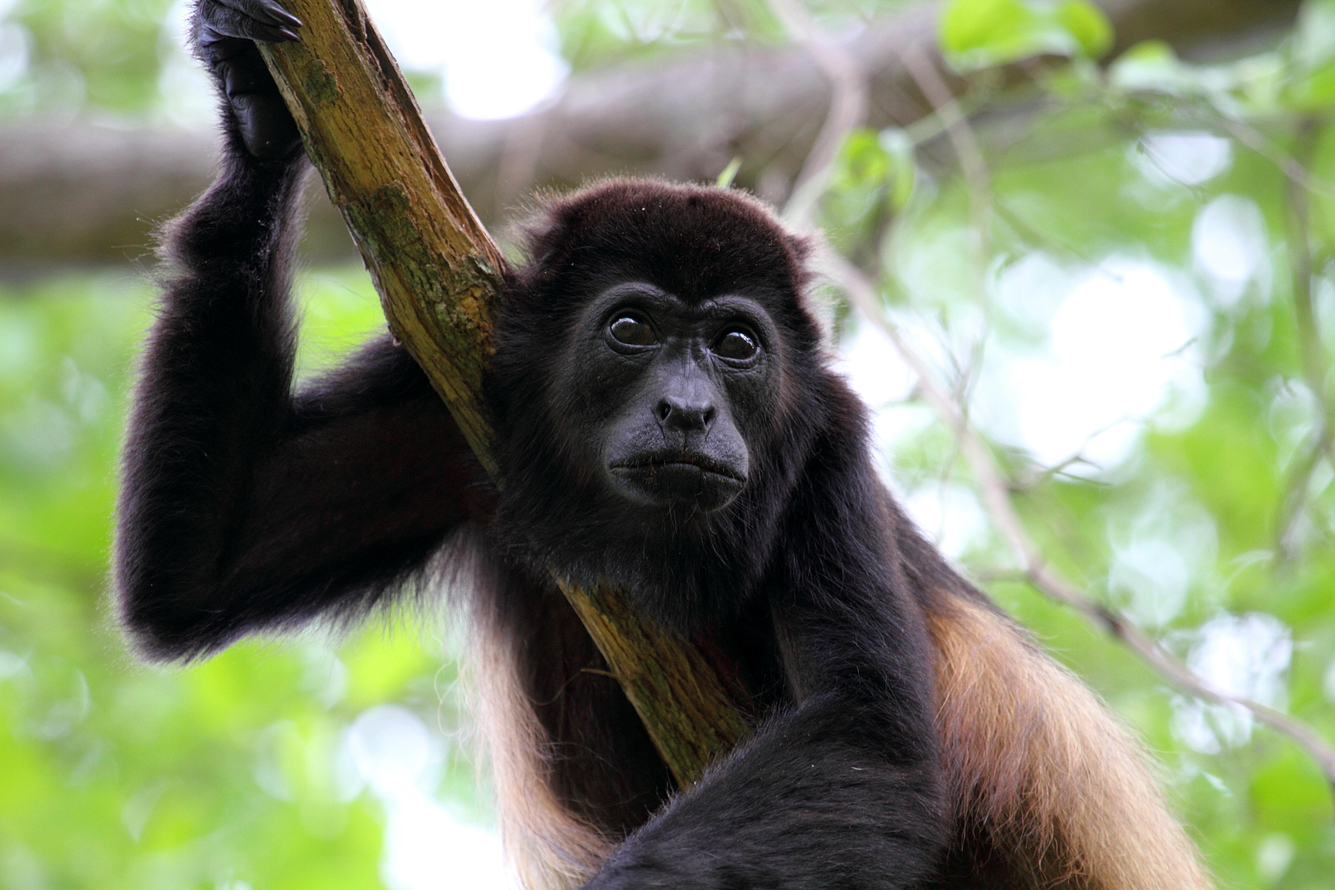monkey: (111, 0, 1218, 890)
